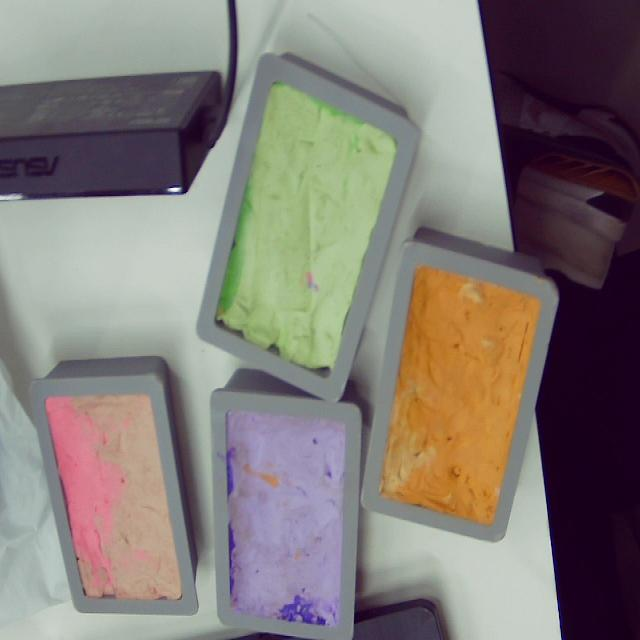block: (196, 51, 421, 406), (357, 229, 559, 549), (27, 357, 204, 620), (207, 375, 362, 640)
